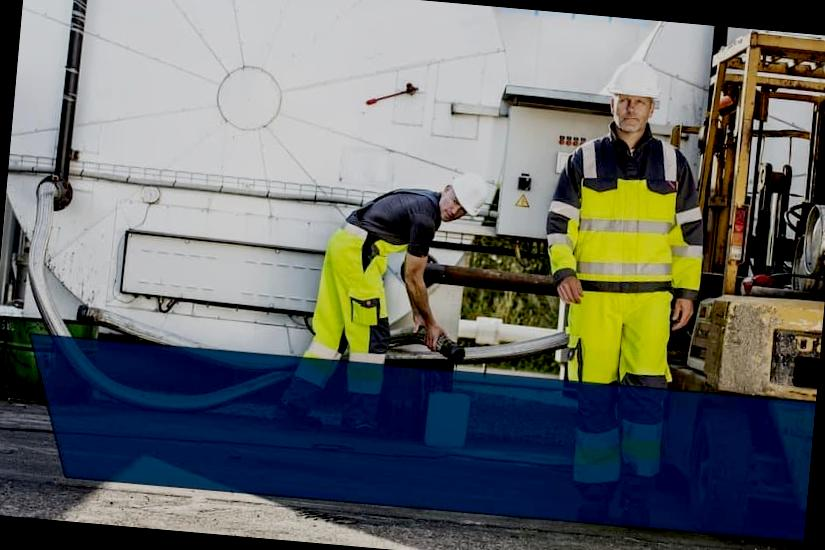helmet: (599, 54, 668, 111), (439, 163, 496, 224)
person: (534, 51, 726, 392), (302, 156, 496, 368)
